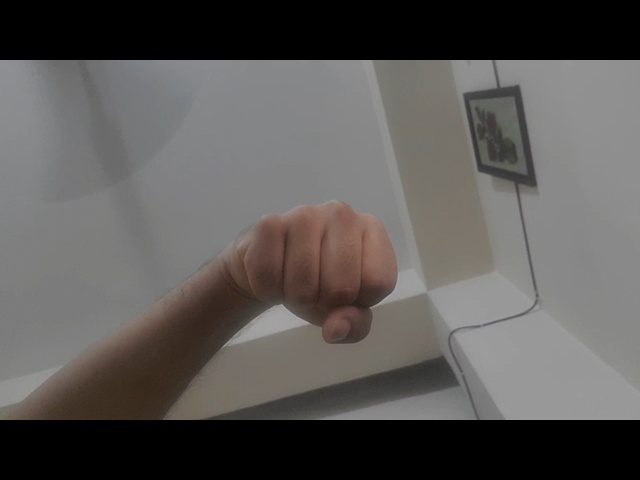Yes: (201, 196, 410, 351)
